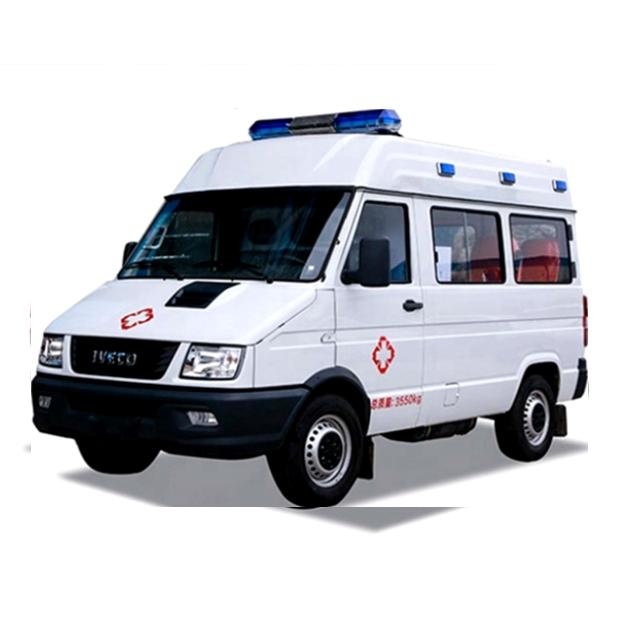emergency: (31, 110, 588, 507)
